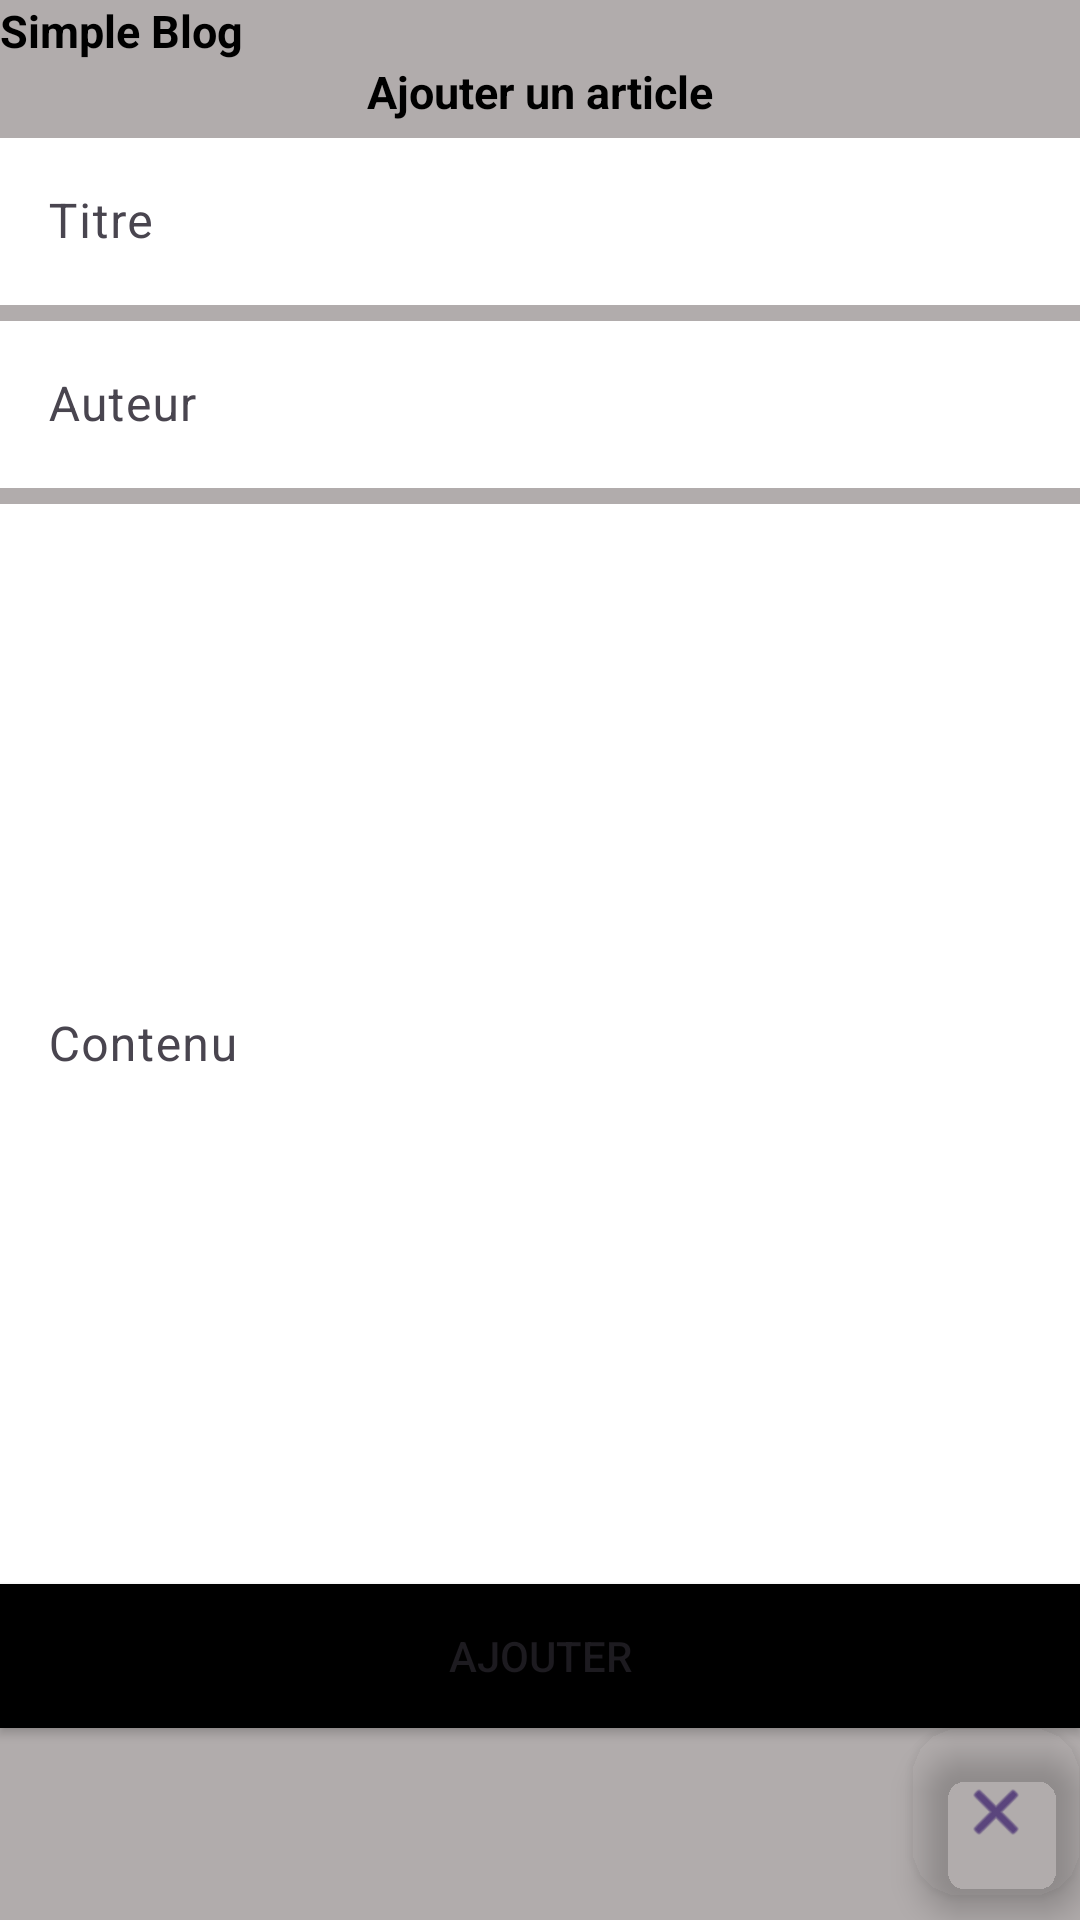

Icons on this 1080 × 1920 Android screen, each with the point to tap as [x,y]:
close clear cancel: [996,1812]
